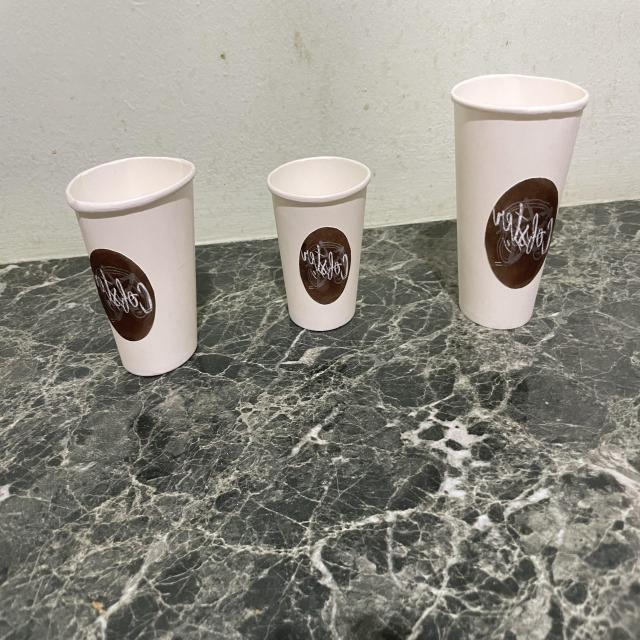big: (446, 66, 594, 333)
medium: (61, 144, 198, 380)
small: (264, 150, 373, 337)
